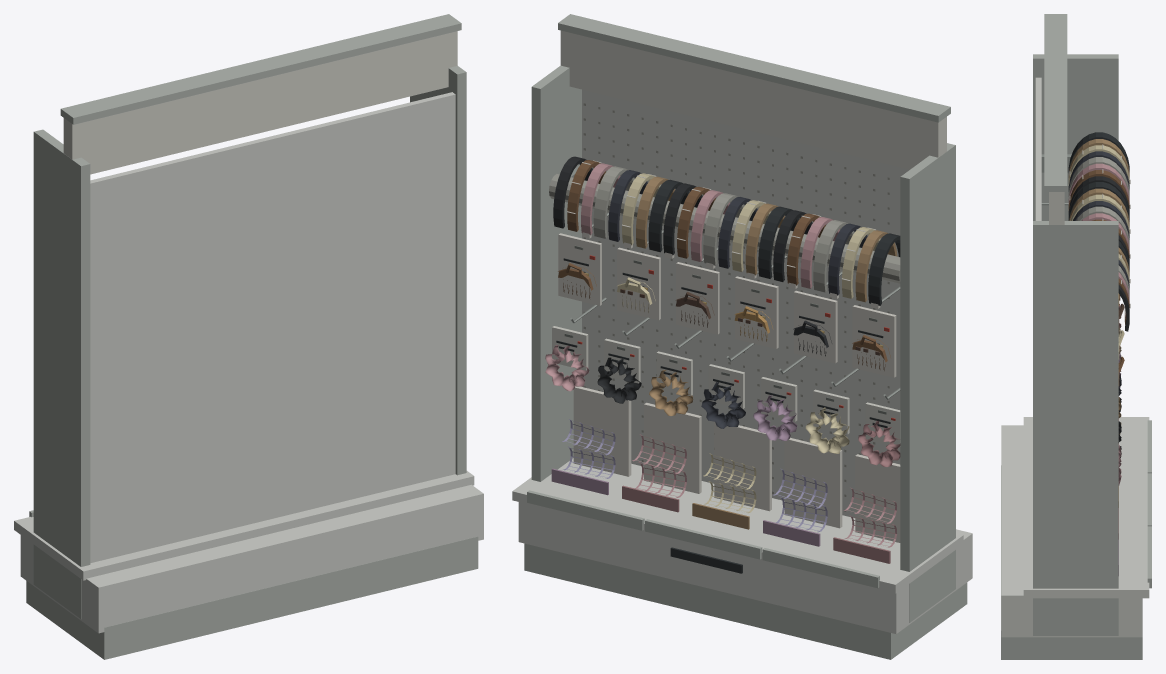
File: hair.glb
The picture shows the model from 3 angles, left to right: view 1: azimuth 30°, elevation 25°; view 2: azimuth 150°, elevation 25°; view 3: azimuth 270°, elevation 25°; orthographic projection. The views are drawn at different scales.
Parts seen in each view (by area): view 1: DaisoHairStand; view 2: DaisoHairStand; view 3: DaisoHairStand.
Boxes of the visible parts, bbox=[...] form: DaisoHairStand: bbox=[14, 14, 483, 659]; DaisoHairStand: bbox=[512, 14, 972, 659]; DaisoHairStand: bbox=[1001, 14, 1151, 659].
Size of the model in its own units: 1.56 by 2.01 by 0.5759.
